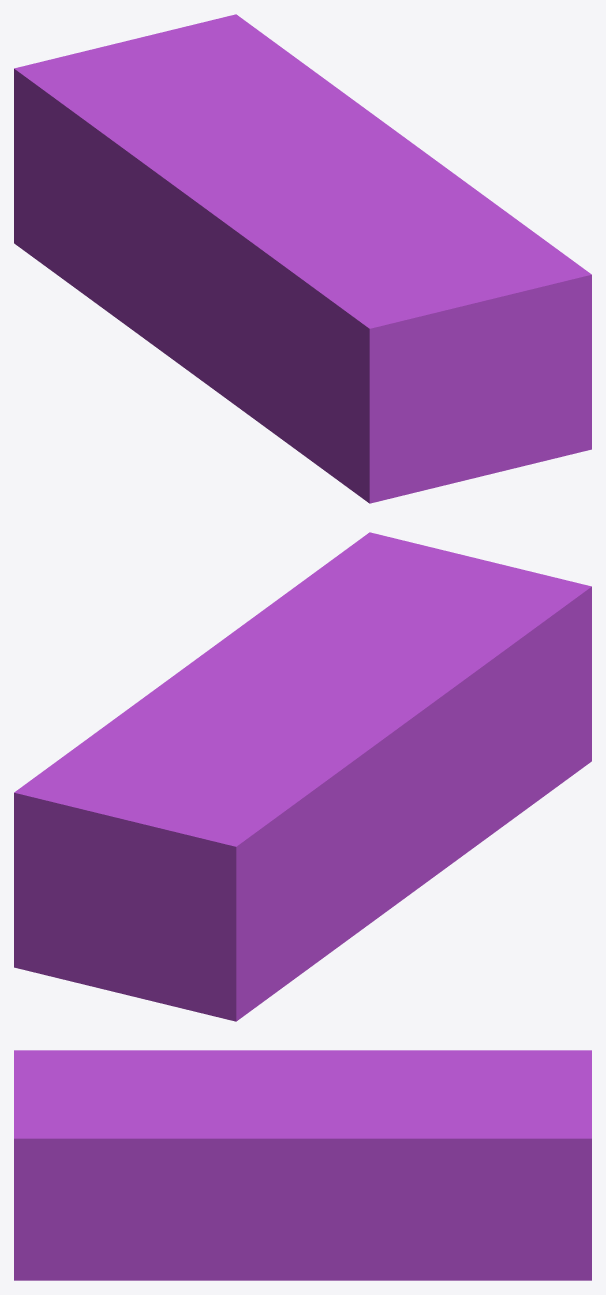
The model's file is shrine_ledge_bk.DAE.
3 renders of one model, top to bottom at view 1: azimuth 30°, elevation 25°; view 2: azimuth 150°, elevation 25°; view 3: azimuth 270°, elevation 25°, orthographic. The views are drawn at different scales.
Parts seen in each view (by area): view 1: bounds; view 2: bounds; view 3: bounds.
Boxes of the visible parts, left/top/right/bottom form: bounds: left=14, top=14, right=591, bottom=503; bounds: left=14, top=532, right=591, bottom=1021; bounds: left=14, top=1050, right=591, bottom=1280.
Bounding box in the file's own units: 3.09 × 8.56 × 2.32.
